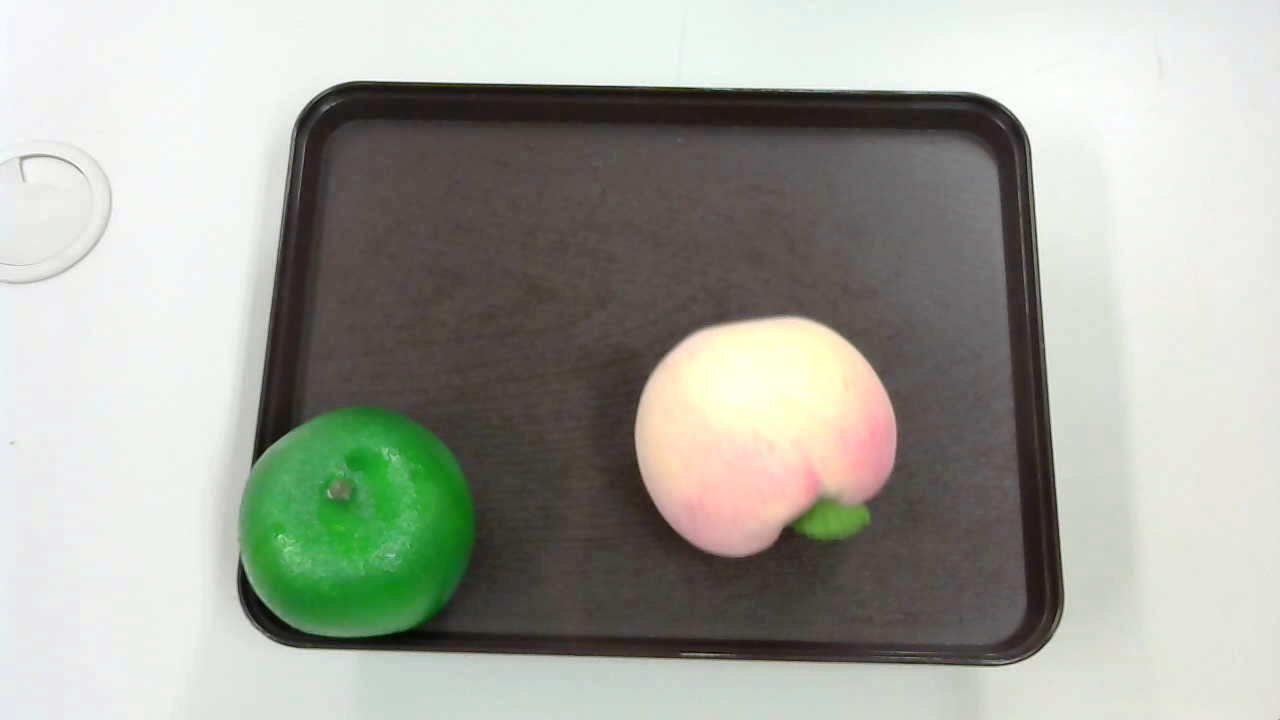green orange: (233, 405, 473, 639)
peach: (631, 305, 907, 558)
